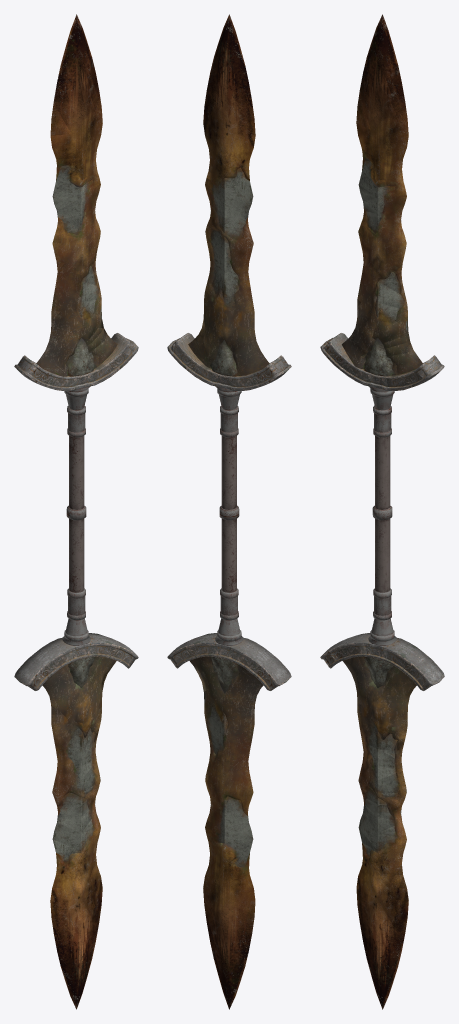
File: le_pd_gargoylesblackblades.glb
3 views of the same model, side by side, from view 1: azimuth 30°, elevation 25°; view 2: azimuth 150°, elevation 25°; view 3: azimuth 330°, elevation 25° (orthographic).
Parts seen in each view (by area): view 1: Gargoyle'sBlackBlades; view 2: Gargoyle'sBlackBlades; view 3: Gargoyle'sBlackBlades.
Boxes of the visible parts, <box> form: Gargoyle'sBlackBlades: <box>14,14,138,1009</box>; Gargoyle'sBlackBlades: <box>167,14,291,1009</box>; Gargoyle'sBlackBlades: <box>320,14,444,1009</box>.
Bounding box in the file's own units: 27.66 × 228 × 5.98.
Materials: 1 (1 with a texture image).
